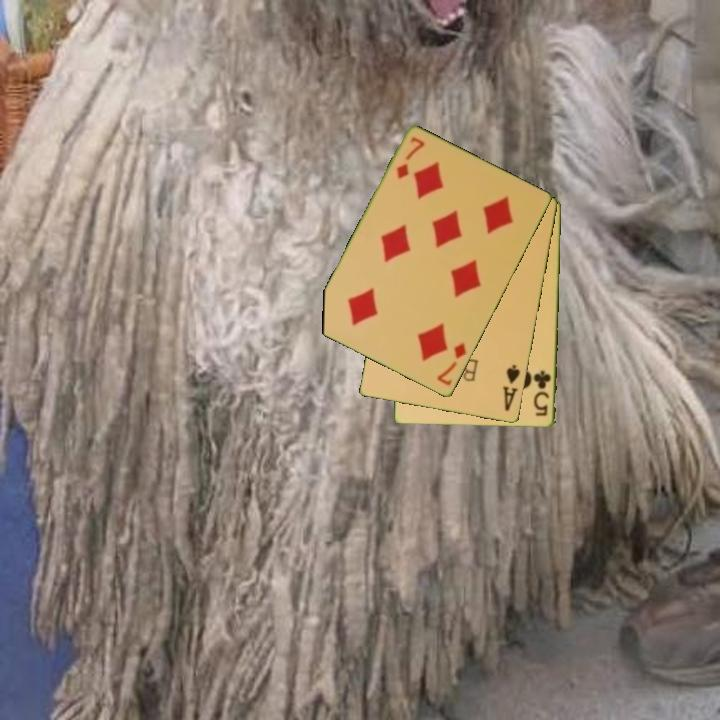5c: (530, 368, 554, 419)
7d: (434, 339, 469, 389), (393, 133, 428, 182)
As: (500, 361, 523, 414)
